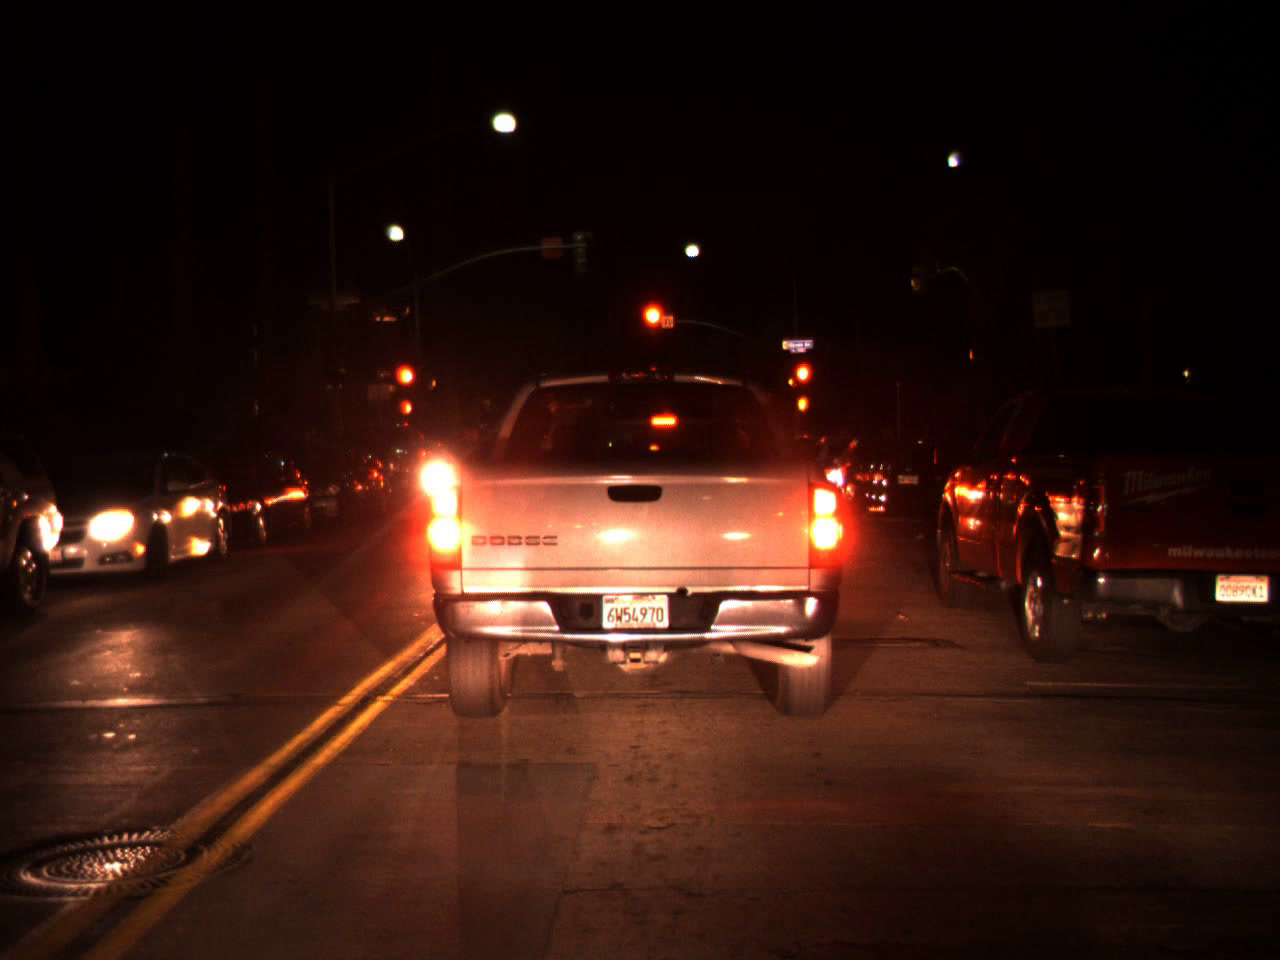stop: (641, 301, 671, 355), (392, 361, 419, 412), (792, 359, 816, 407)
